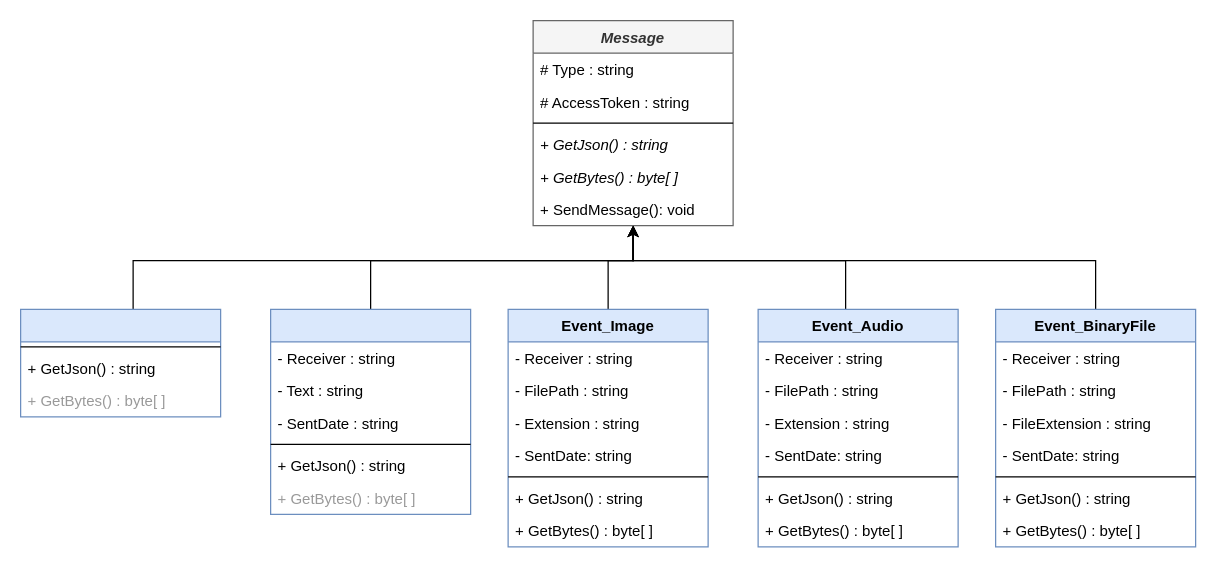
Some shapes in this 1216 by 568 pixel diagram are drawn without their labels. The box of each missing label's shape, as (x1, y1, x2, y2) in pixels:
Event_Authentication: (19, 308, 221, 417)
Event_Text: (269, 308, 471, 514)
